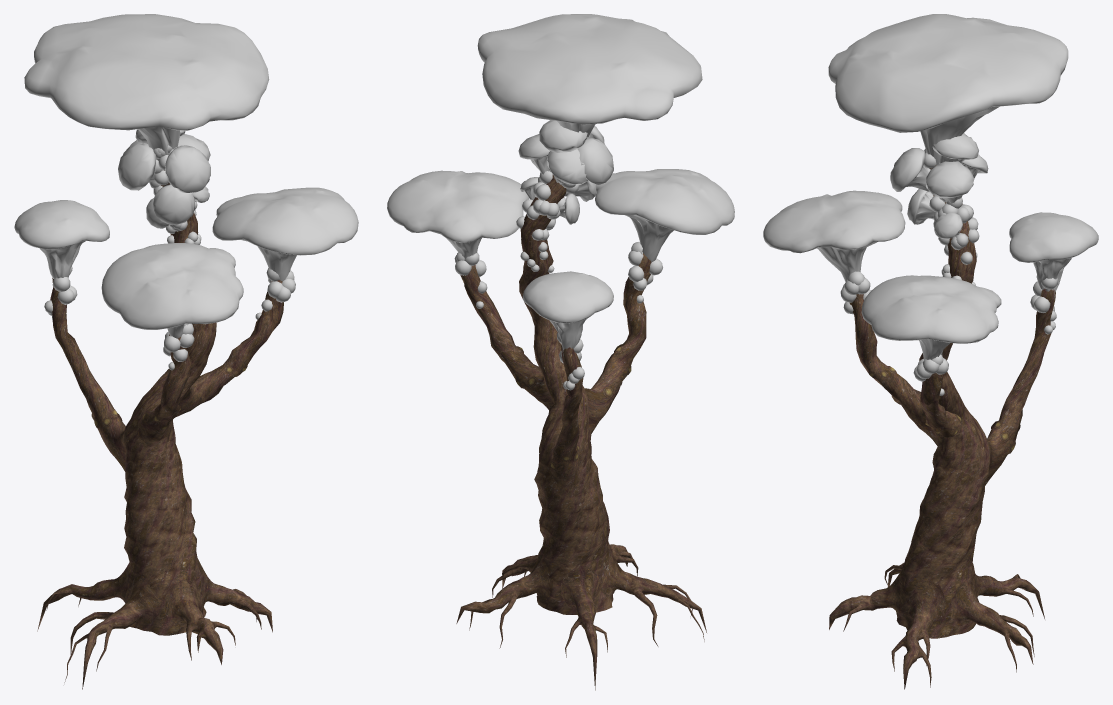
Rendered from Shrooomtree_1.fbx.
3 renders of one model, left to right at view 1: azimuth 30°, elevation 25°; view 2: azimuth 150°, elevation 25°; view 3: azimuth 270°, elevation 25°, orthographic.
Parts seen in each view (by area): view 1: polySurface61; view 2: polySurface61; view 3: polySurface61.
Boxes of the visible parts, box(x1,y1,x2,y2) form: polySurface61: box(14, 14, 358, 689); polySurface61: box(387, 14, 734, 690); polySurface61: box(763, 14, 1098, 689).
Size of the model in its own units: 655 by 1284 by 641.
